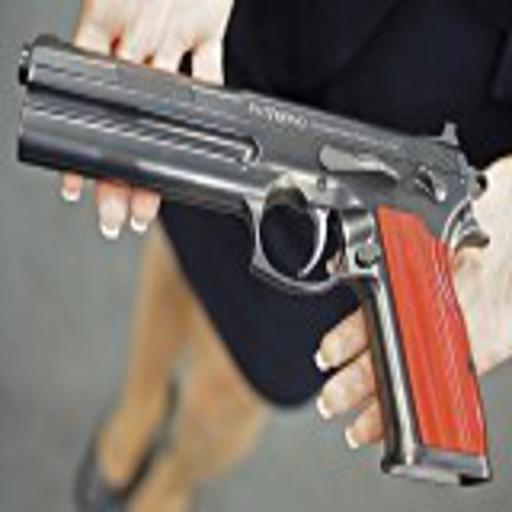Handgun: (15, 24, 498, 493)
